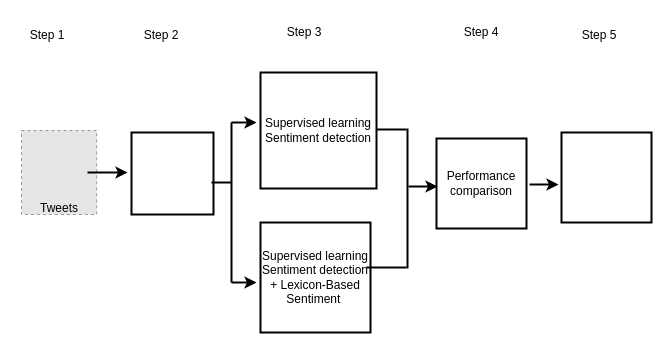
This 669x350 diagram has some shape labels left out. Grey dashed boxes stand in for pictures. The shapes that lost their labels are listed below. From the top down, each one's box as (x1, y1, x2, y2) in pixels, then its label:
(130, 131, 214, 215): Preprocessing
(560, 131, 652, 223): Thematic crime insights
